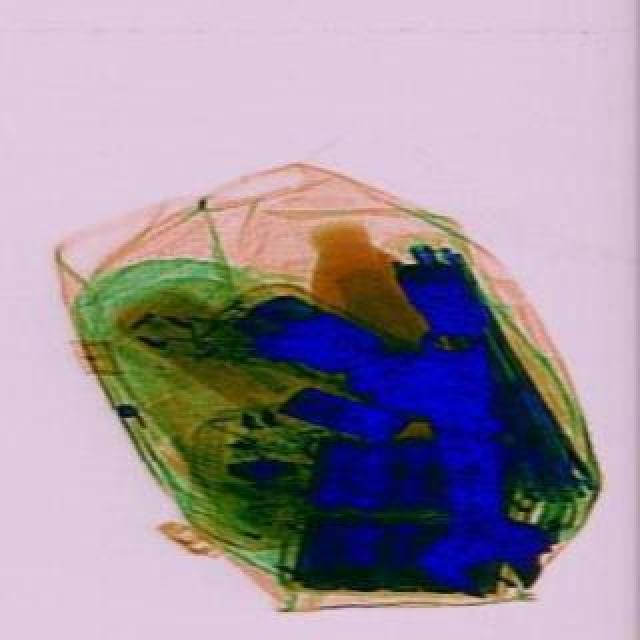scissors: (384, 316, 564, 608)
